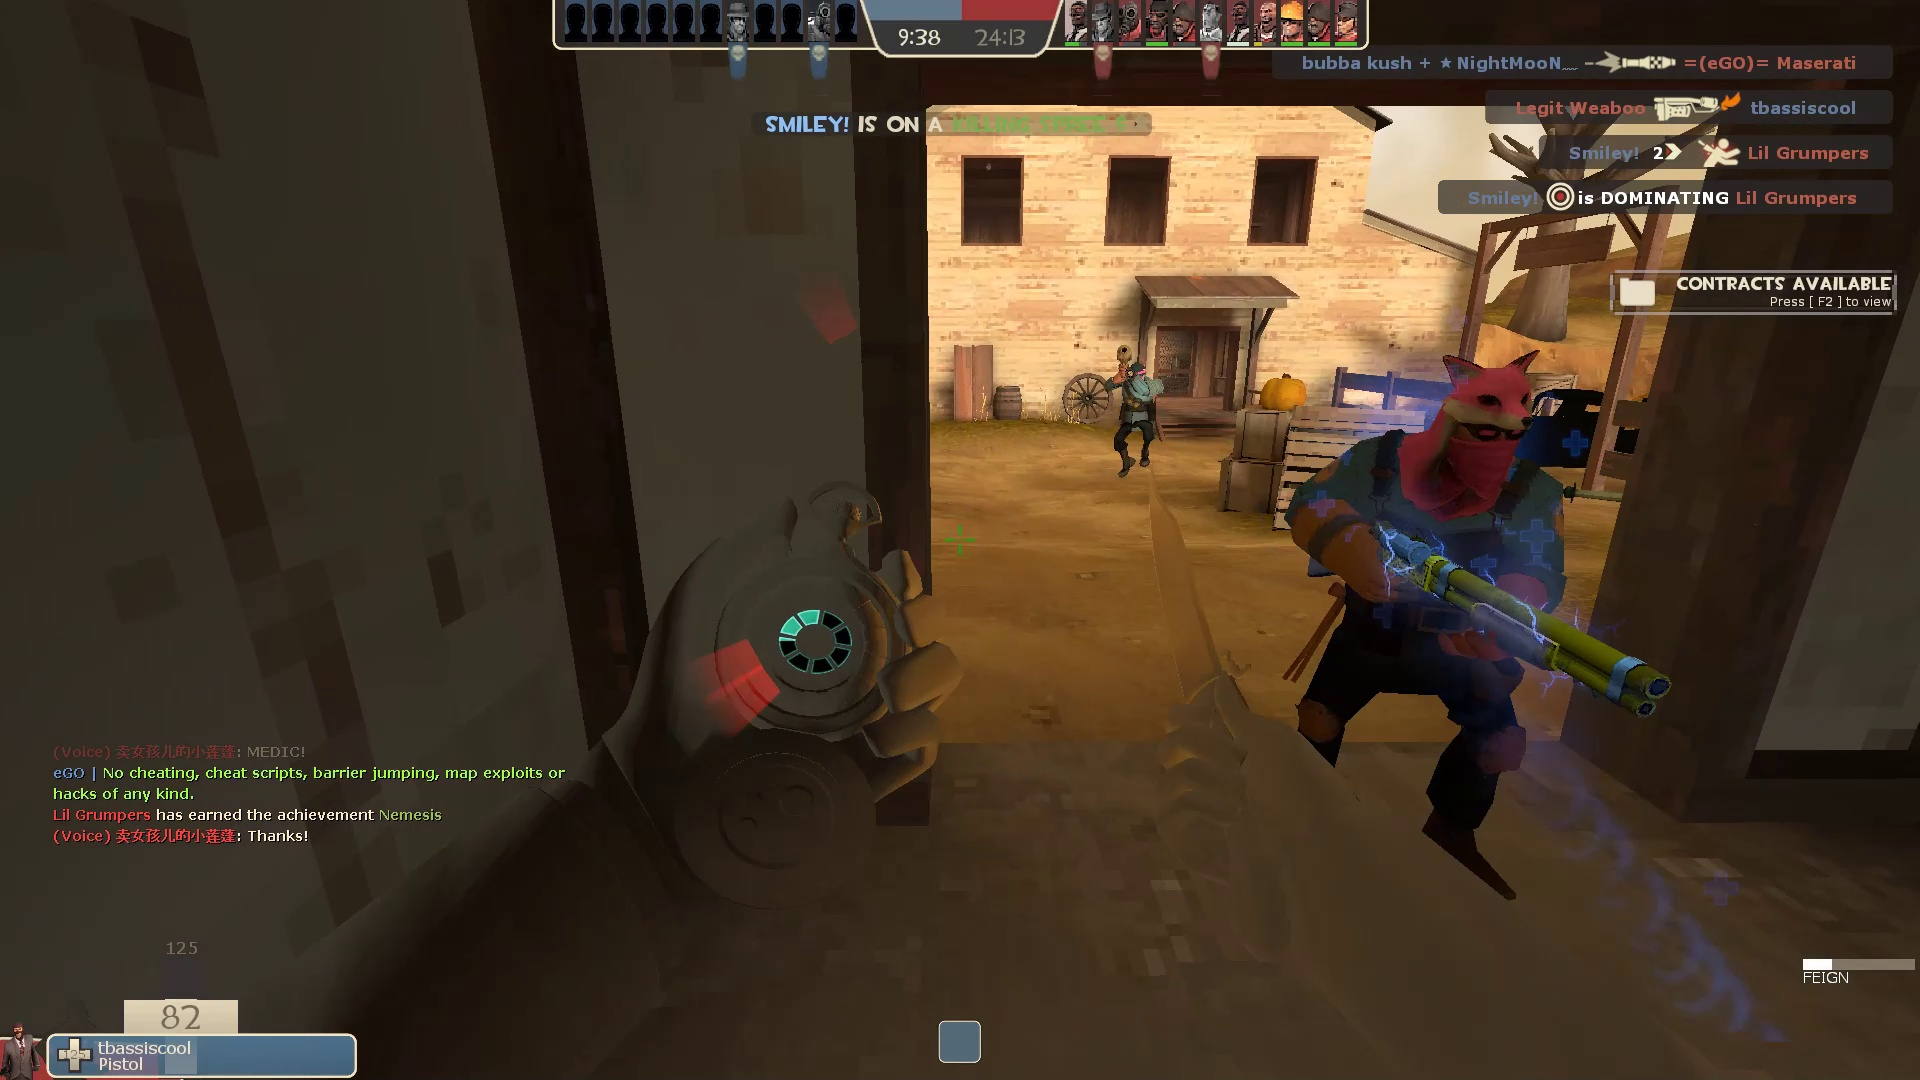blu_engineer: (1263, 343, 1679, 923)
blu_soldier: (1098, 345, 1166, 485)
